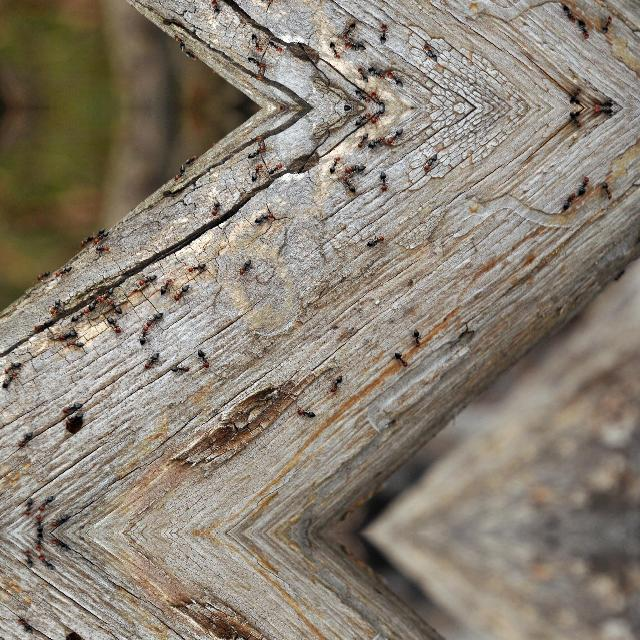Crematogaster: (192, 345, 212, 369), (422, 153, 441, 173), (422, 41, 441, 61), (329, 372, 346, 394), (575, 172, 589, 196), (575, 18, 589, 42), (560, 3, 576, 24), (170, 360, 190, 376), (144, 310, 164, 326), (62, 399, 82, 415), (560, 190, 576, 210), (64, 409, 82, 426), (394, 349, 411, 366), (144, 352, 160, 370), (172, 284, 190, 300), (106, 314, 122, 332), (249, 162, 265, 180), (371, 107, 387, 125), (328, 154, 346, 170), (342, 173, 358, 191), (386, 127, 404, 143), (370, 130, 388, 146), (249, 34, 265, 52), (371, 89, 387, 107), (328, 44, 346, 60), (342, 23, 358, 41), (386, 71, 404, 87), (370, 68, 388, 84), (15, 429, 30, 448), (49, 512, 69, 526), (600, 178, 614, 198), (49, 538, 69, 552), (600, 16, 614, 36), (239, 255, 251, 278), (1, 370, 18, 386), (15, 616, 30, 634), (379, 167, 391, 189), (379, 25, 391, 47), (48, 297, 61, 317), (65, 336, 85, 349), (566, 110, 582, 126), (566, 88, 582, 104), (100, 284, 114, 302), (72, 306, 90, 320), (35, 268, 53, 282), (297, 405, 317, 417), (211, 198, 223, 218), (365, 235, 385, 247), (344, 162, 368, 172), (344, 42, 368, 52), (255, 210, 272, 224), (37, 495, 54, 509), (37, 555, 54, 569), (172, 163, 185, 181), (172, 33, 185, 51), (160, 274, 174, 290), (141, 270, 157, 284), (270, 162, 284, 178), (252, 144, 268, 158), (354, 132, 368, 148), (270, 36, 284, 52), (252, 56, 268, 70), (354, 66, 368, 82), (56, 263, 74, 275), (188, 259, 206, 271), (351, 110, 369, 122), (34, 512, 46, 530), (351, 92, 369, 104), (34, 534, 46, 552), (138, 322, 148, 342), (412, 326, 422, 346), (108, 297, 122, 311), (78, 230, 92, 244), (96, 230, 112, 242), (258, 136, 270, 152), (258, 62, 270, 78), (21, 497, 31, 515), (211, 0, 223, 15), (21, 549, 31, 567), (91, 292, 102, 308), (5, 358, 21, 369), (591, 107, 613, 115), (591, 99, 613, 107), (95, 244, 111, 254), (30, 320, 50, 328), (93, 225, 105, 237), (184, 51, 200, 60), (59, 330, 75, 338), (184, 154, 200, 162), (255, 0, 272, 4)
